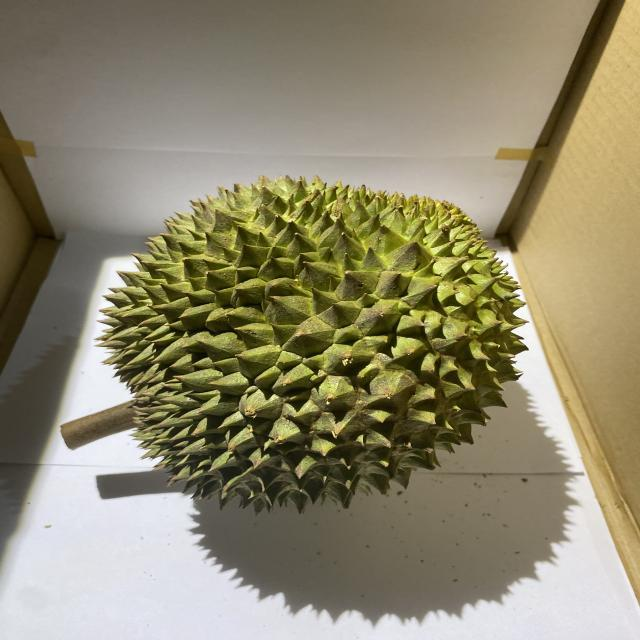immature: (92, 172, 528, 518)
